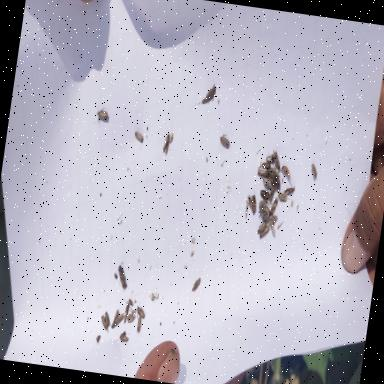pbw: (114, 264, 130, 292), (278, 162, 294, 182), (266, 170, 282, 190), (110, 308, 124, 330), (216, 132, 230, 154), (132, 128, 144, 150), (266, 184, 276, 209), (270, 150, 282, 170), (266, 214, 278, 233), (161, 132, 170, 156), (122, 300, 130, 326), (268, 196, 278, 216), (256, 220, 267, 236), (258, 225, 270, 239), (135, 306, 147, 320), (258, 188, 270, 202), (308, 162, 318, 178), (191, 276, 201, 292), (102, 310, 112, 326), (118, 330, 129, 344), (261, 177, 273, 189), (269, 166, 281, 178), (276, 192, 290, 202), (100, 314, 108, 330), (126, 312, 136, 324), (260, 161, 272, 170), (282, 186, 294, 195), (246, 195, 253, 209), (257, 169, 269, 177), (136, 316, 142, 332), (266, 154, 276, 162), (244, 202, 248, 220), (250, 198, 256, 209), (128, 298, 134, 306)
